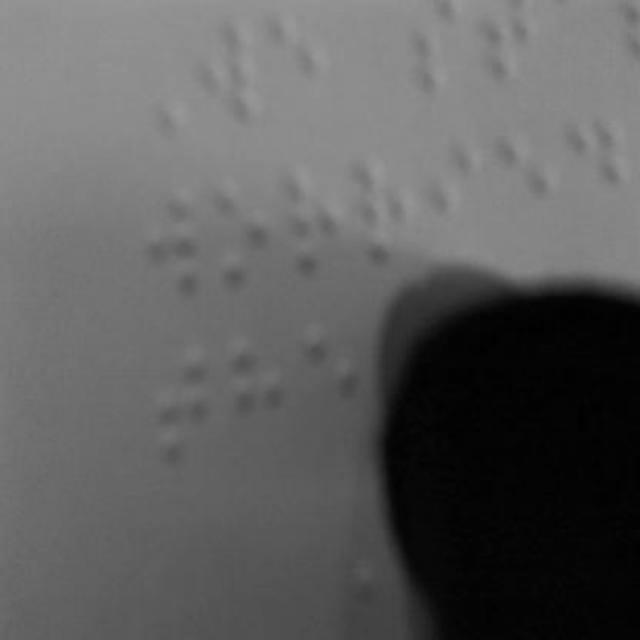braiile: (301, 312, 373, 452), (357, 144, 429, 276), (223, 327, 289, 471), (153, 329, 217, 475), (286, 148, 354, 282), (211, 162, 283, 288), (142, 176, 208, 312), (501, 123, 564, 261), (198, 13, 268, 131), (432, 132, 494, 258)
